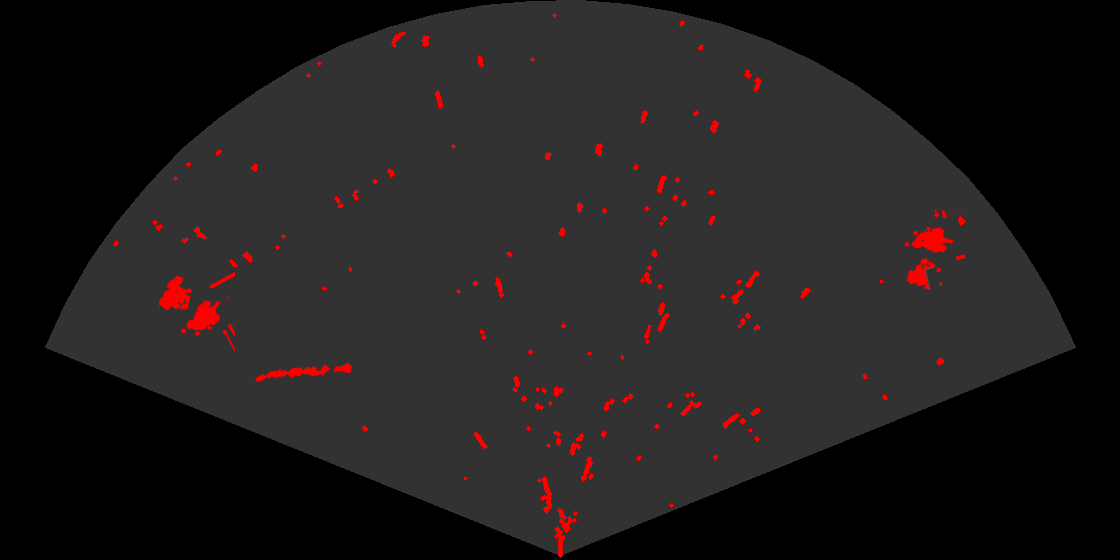cage: (157, 270, 235, 353), (903, 210, 965, 292)
chain: (253, 361, 354, 383)
